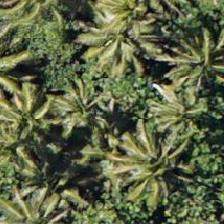coconut_tree: (117, 127, 207, 217), (37, 62, 127, 152), (134, 44, 223, 134), (76, 0, 166, 74), (1, 171, 91, 223), (0, 86, 51, 176), (0, 0, 73, 46)
